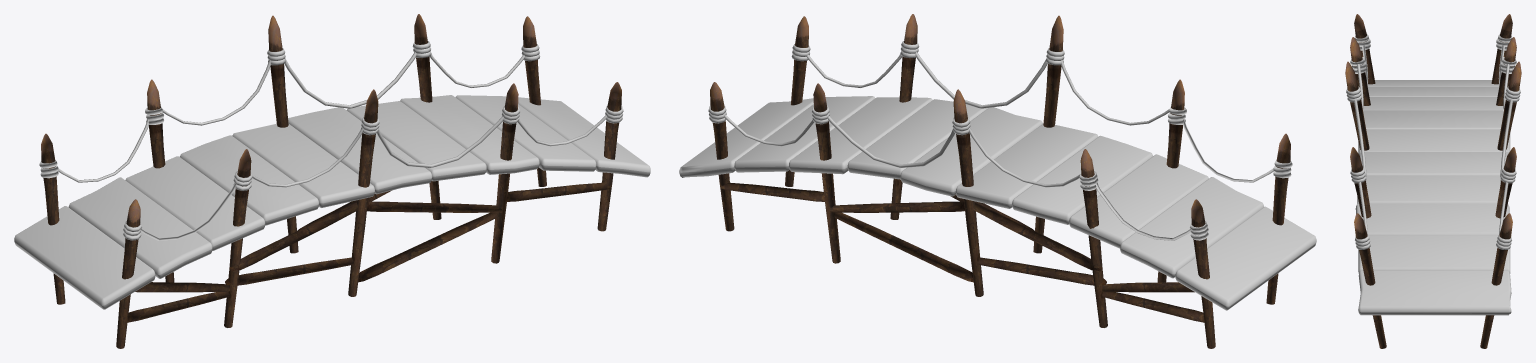
The model's file is Bridge.FBX.
The picture shows the model from 3 angles, left to right: view 1: azimuth 30°, elevation 25°; view 2: azimuth 150°, elevation 25°; view 3: azimuth 270°, elevation 25°; orthographic projection. The views are drawn at different scales.
Visible parts, largest first — view 1: ChamferBox022; view 2: ChamferBox022; view 3: ChamferBox022.
Boxes of the visible parts, box(x1,y1,x2,y2) form: ChamferBox022: box(14, 14, 650, 348); ChamferBox022: box(679, 14, 1316, 348); ChamferBox022: box(1345, 14, 1521, 348).
Size of the model in its own units: 722 by 280 by 237.
